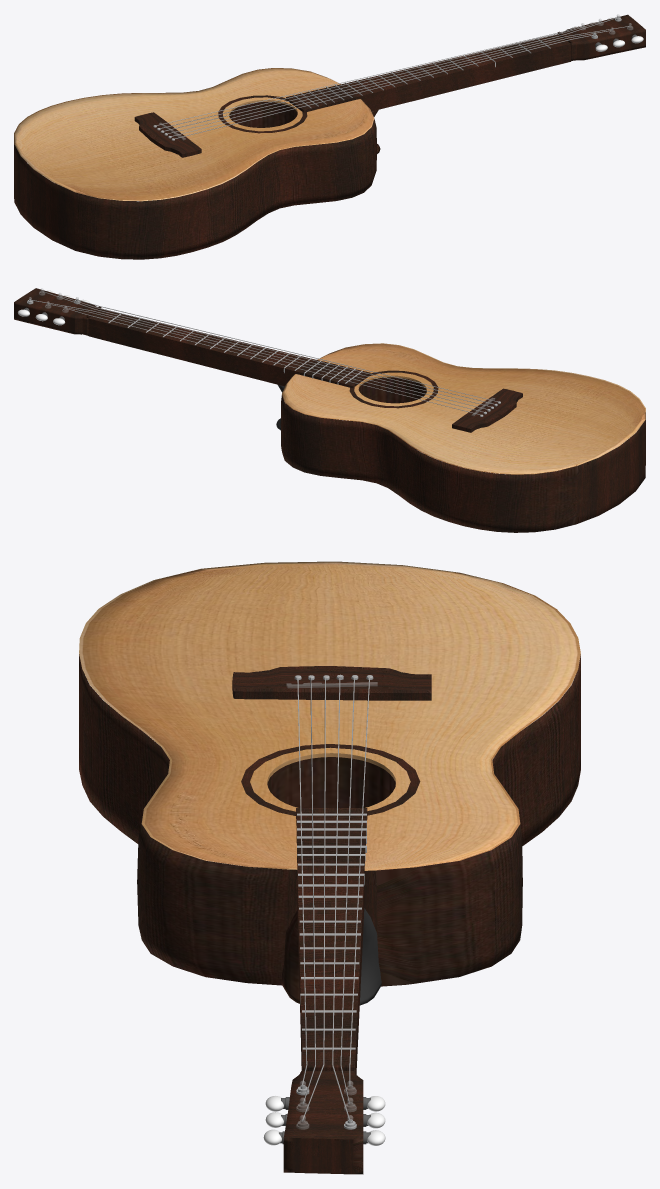
The model's file is guitar.gltf.
3 renders of one model, top to bottom at view 1: azimuth 30°, elevation 25°; view 2: azimuth 150°, elevation 25°; view 3: azimuth 270°, elevation 25°, orthographic. The views are drawn at different scales.
Parts seen in each view (by area): view 1: polySurface1; view 2: polySurface1; view 3: polySurface1.
Part boxes in pixels (x1,y1,x2,y2): polySurface1: (14,14,645,259); polySurface1: (14,288,645,532); polySurface1: (79,561,580,1174).
Size of the model in its own units: 21.16 by 2.28 by 7.68.
Materials: 21 (2 with a texture image).
